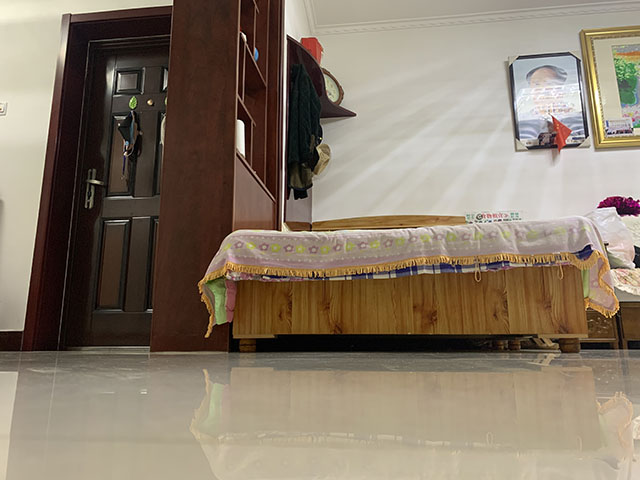bed: (197, 212, 622, 354)
cabinet: (148, 1, 287, 354)
